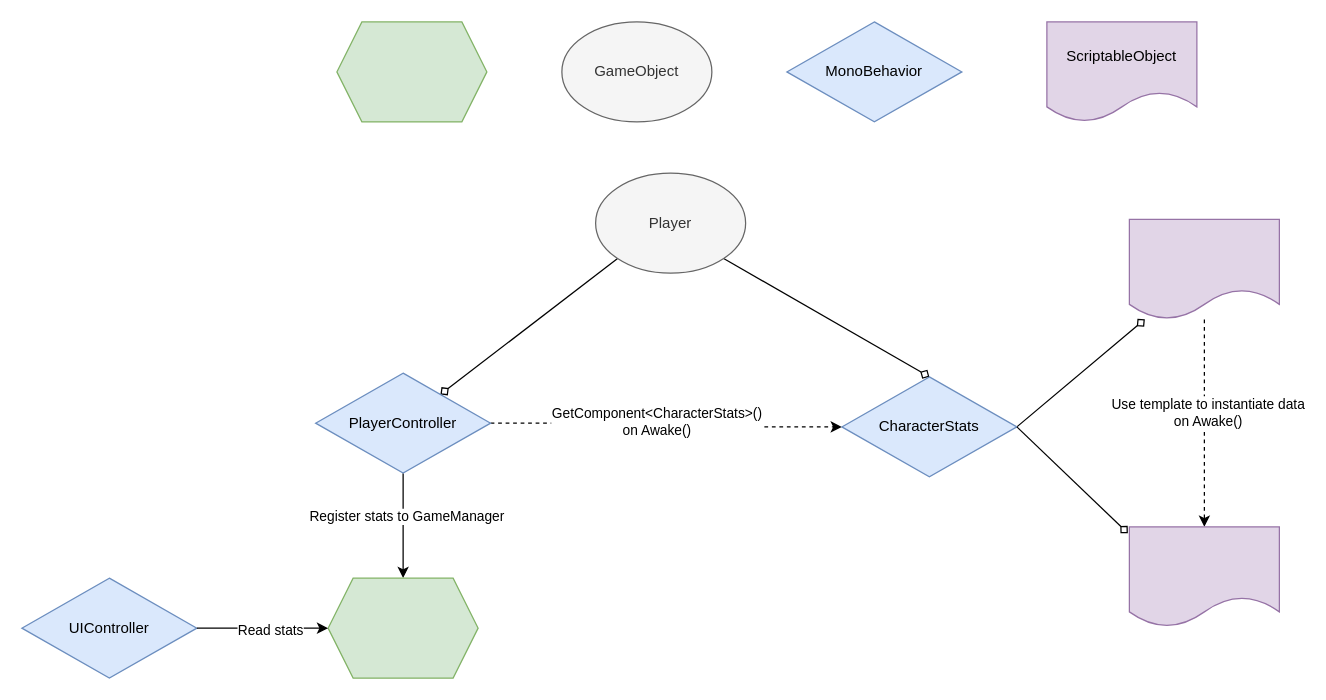
Some shapes in this 1326 by 700 pixel diagram are drawn without their labels. Each missing label, with the centre of its shape:
"CharacterData_SO characterData" goes at [1203,576].
"CharacterData_SO template" goes at [1203,268].
"GameManager" goes at [402,627].
"Singleton<T>" goes at [411,71].
